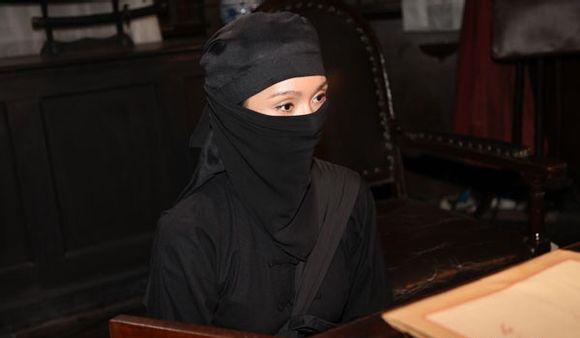OK: (249, 77, 339, 167)
